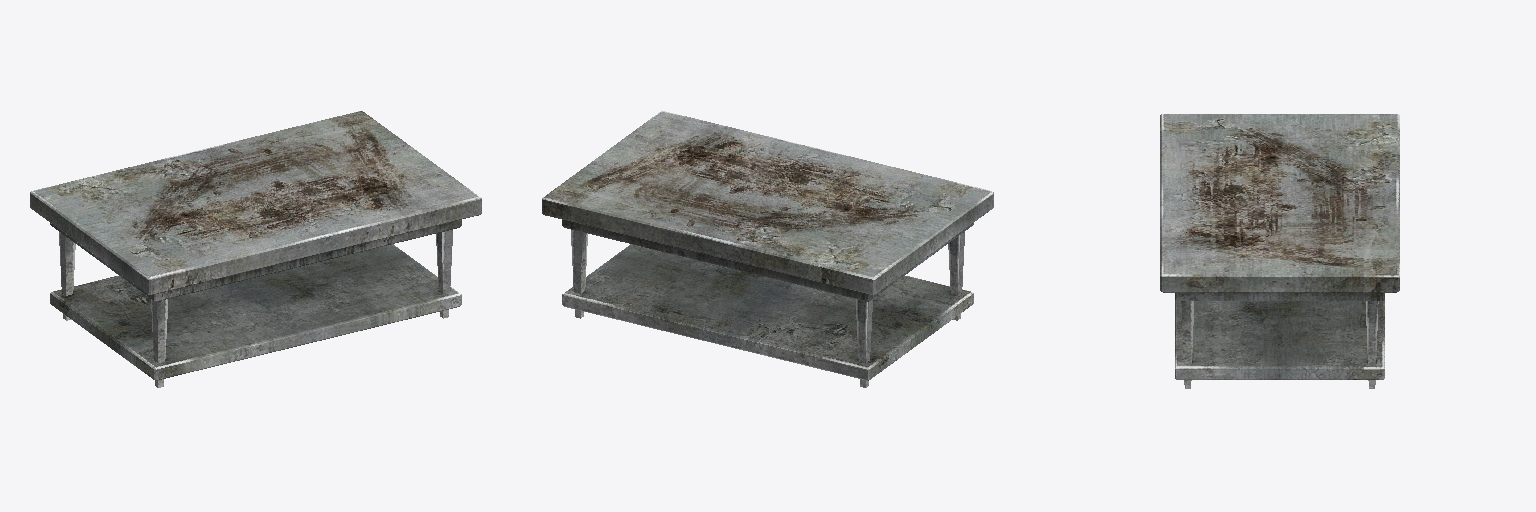
3 views of the same model, side by side, from view 1: azimuth 30°, elevation 25°; view 2: azimuth 150°, elevation 25°; view 3: azimuth 270°, elevation 25° (orthographic).
Visible parts, largest first — view 1: AA_Kitchen_CounterC_St; view 2: AA_Kitchen_CounterC_St; view 3: AA_Kitchen_CounterC_St.
Part boxes in pixels (x1,y1,x2,y2): AA_Kitchen_CounterC_St: (30,111,481,387); AA_Kitchen_CounterC_St: (542,111,993,387); AA_Kitchen_CounterC_St: (1160,114,1399,388).
Bounding box in the file's own units: 234 × 83 × 146.
Materials: 1 (1 with a texture image).